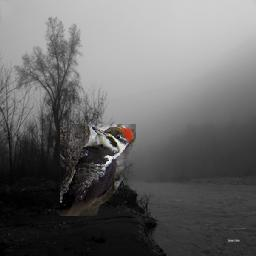Woodpecker: (60, 124, 136, 216)
